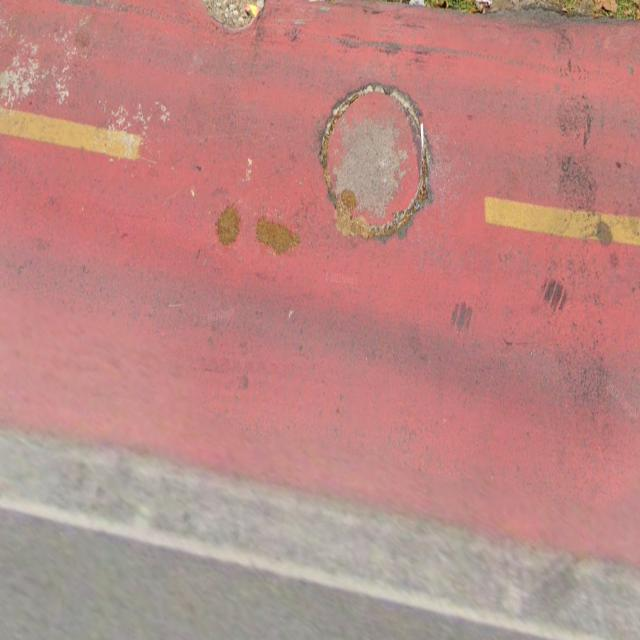Bueiro: (319, 67, 442, 252)
